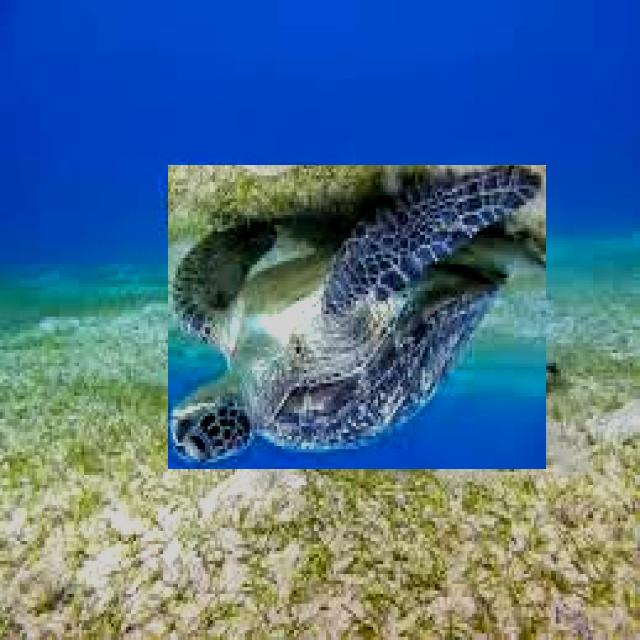Sea turtle: (168, 165, 546, 469), (558, 293, 574, 371)
